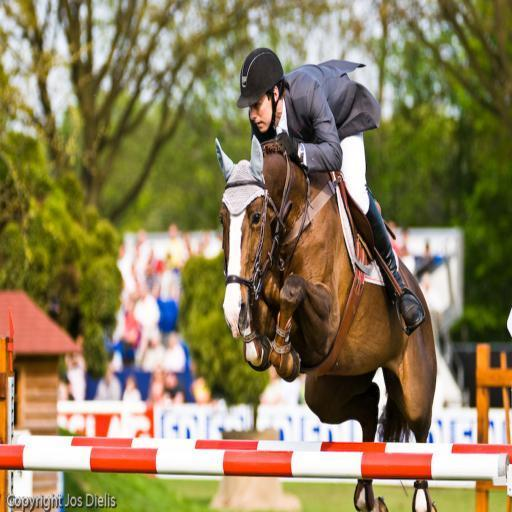horse: (216, 137, 440, 511)
